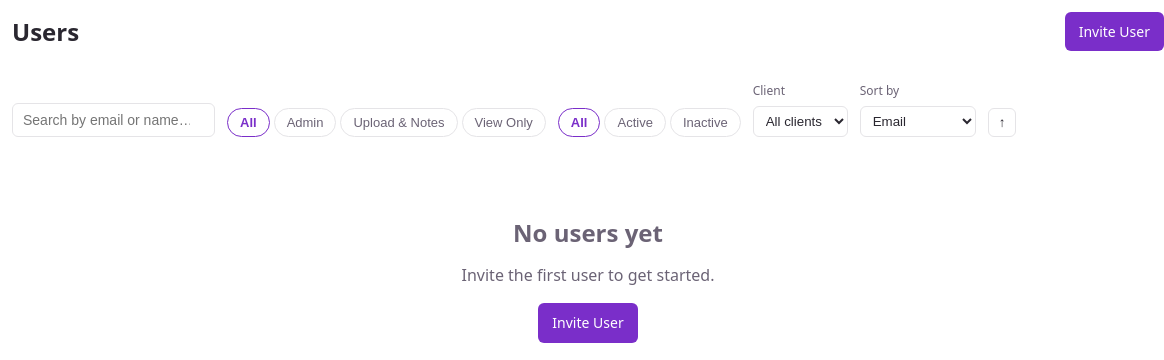
Test case: UsersListPage loading/error/empty states › distinguishes "no users match this filter" from "no users exist"
Expected: the heading "No users yet" is shown, [513,216,663,249]
Click the button "Admin" at (305, 123), box [274,108,336,137]
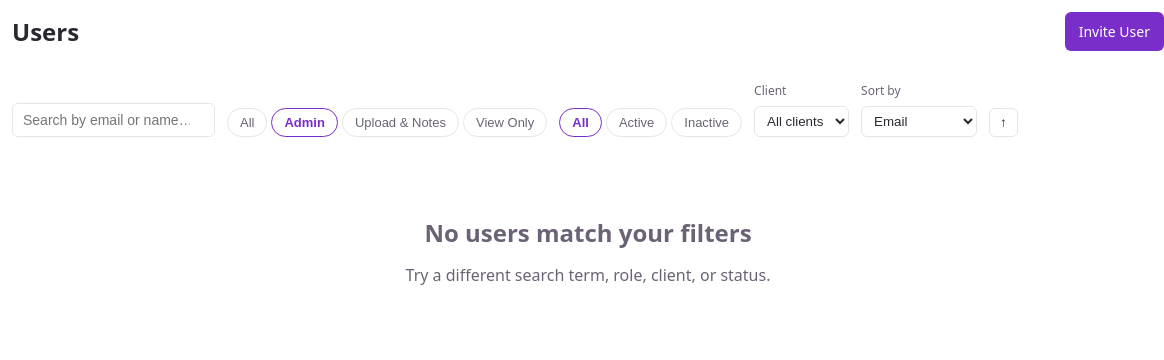
Expected: the heading "No users match your filters" is shown, [424,216,752,249]
